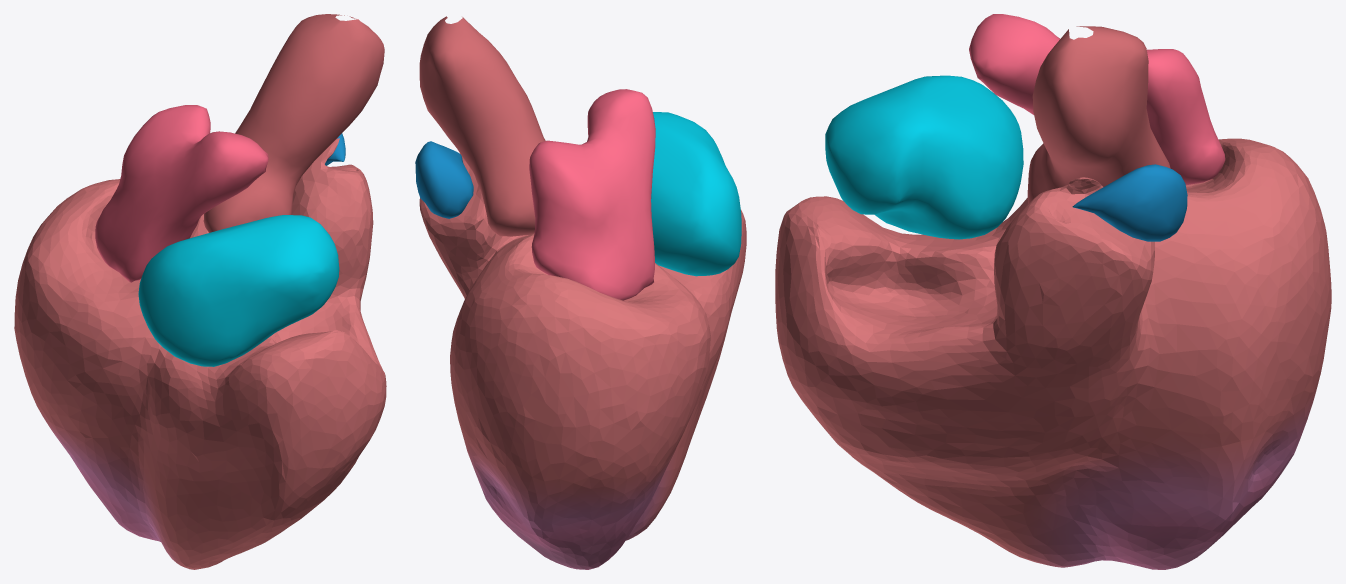
Rendered from frame_4.glb.
The picture shows the model from 3 angles, left to right: view 1: azimuth 30°, elevation 25°; view 2: azimuth 150°, elevation 25°; view 3: azimuth 270°, elevation 25°; orthographic projection. The views are drawn at different scales.
Parts seen in each view (by area): view 1: Renderer Node; view 2: Renderer Node; view 3: Renderer Node.
Boxes of the visible parts, left/top/right/bottom form: Renderer Node: left=14, top=14, right=386, bottom=569; Renderer Node: left=415, top=16, right=746, bottom=569; Renderer Node: left=775, top=14, right=1331, bottom=569.
Bounding box in the file's own units: 102 × 158 × 126.
